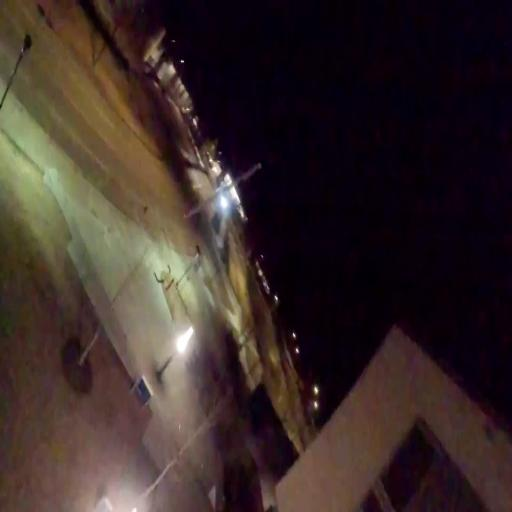uav: (182, 156, 263, 226)
